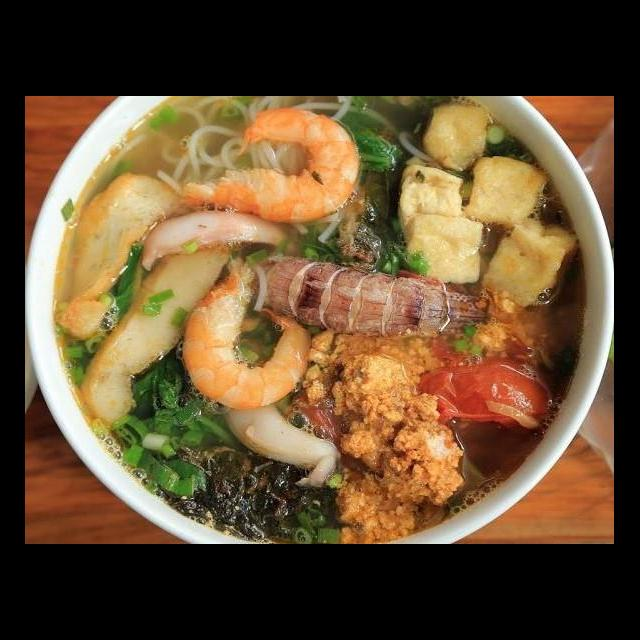bun: (154, 97, 356, 198)
bun hai san: (38, 121, 602, 538)
dau hu: (472, 215, 582, 311), (459, 152, 552, 232), (402, 209, 490, 286), (394, 155, 468, 243), (421, 99, 494, 177)
muc: (218, 389, 344, 493), (136, 204, 306, 265)
tom: (172, 105, 364, 225), (176, 254, 316, 413)
tom tit: (234, 246, 496, 340)
